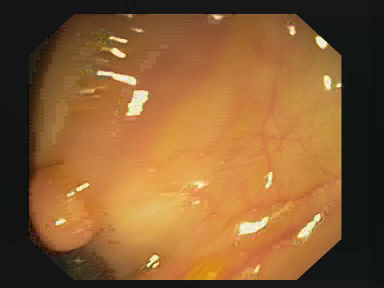polyp: (22, 155, 105, 262)
